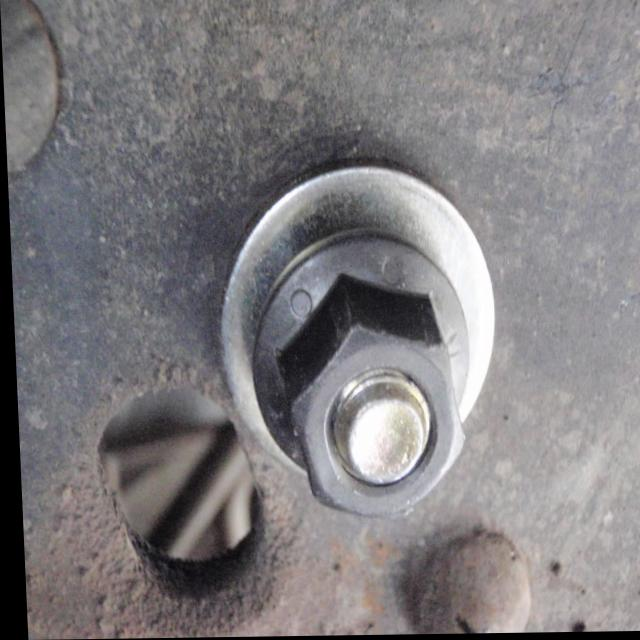Regular bolt: (276, 254, 465, 524)
